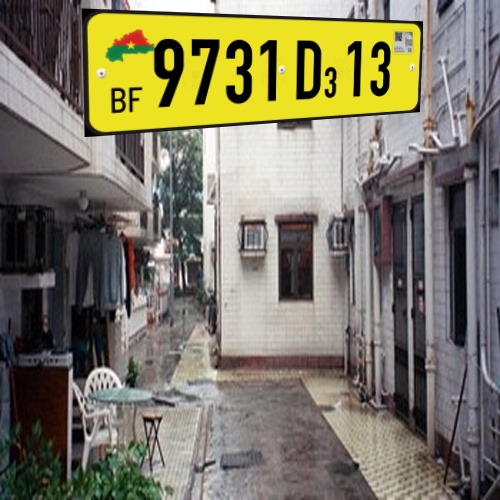plate: (77, 9, 436, 149)
